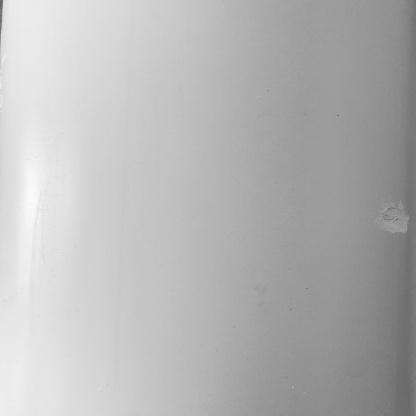sunshang: (371, 189, 413, 245)
